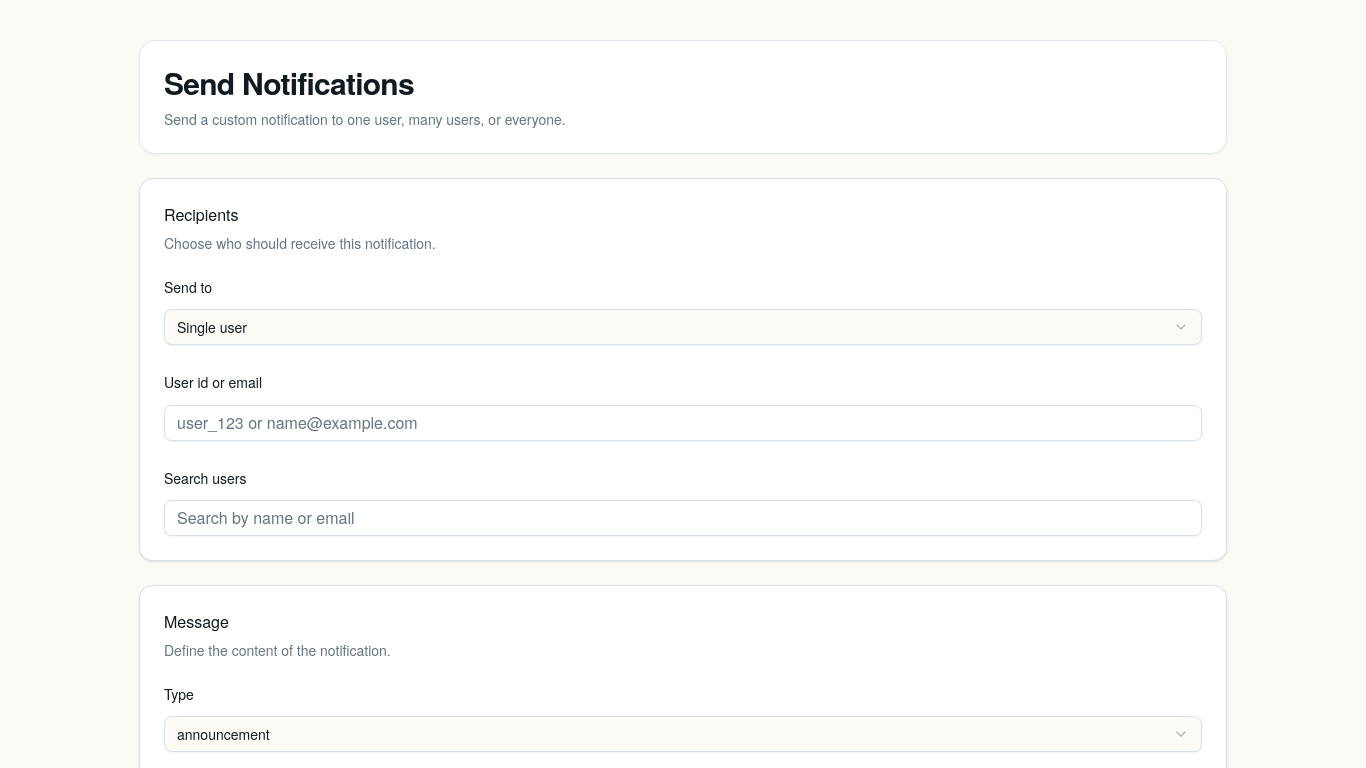
AdminSendNotificationsPage › adds a user from search results
The width and height of the screenshot is (1366, 768).
Step 1. Type "alex" into the field with placeholder "Search by name or email" → {"x": 683, "y": 518}, box [164,500,1202,536]
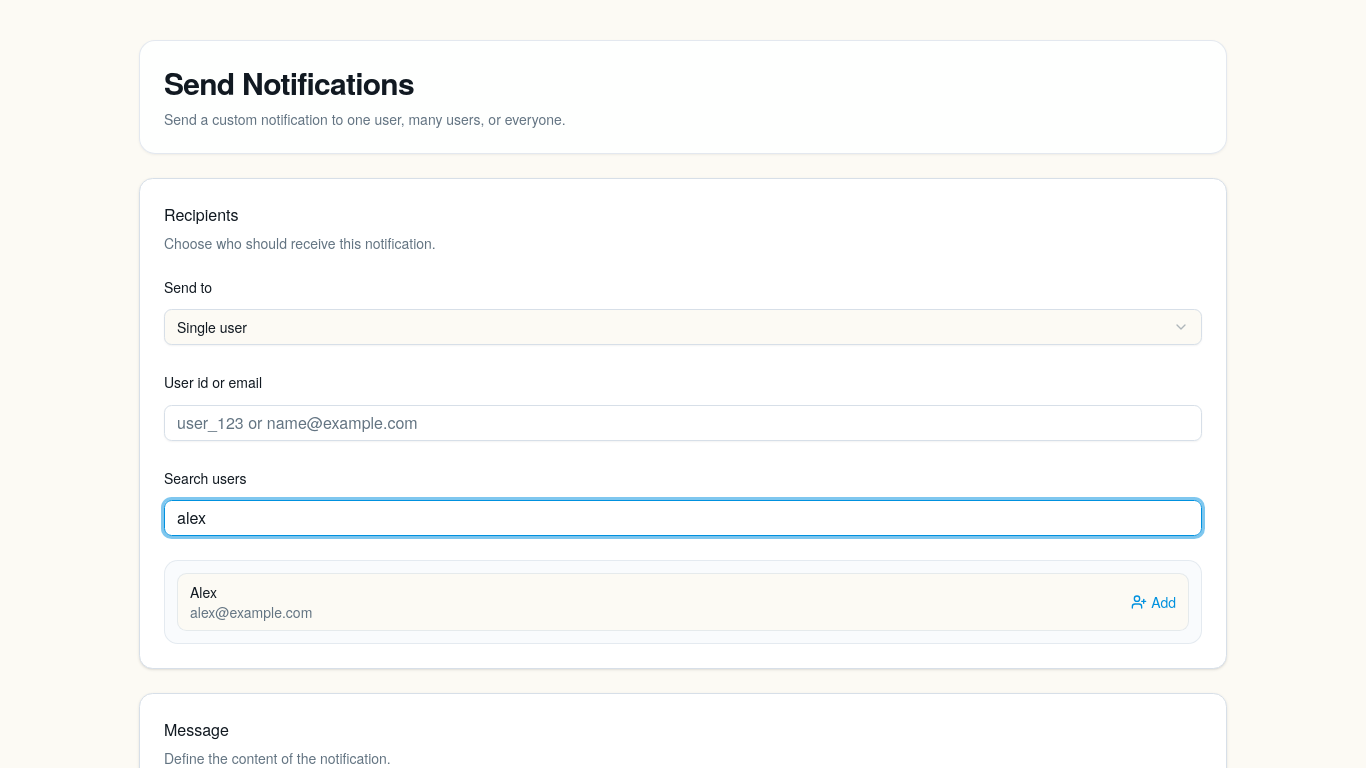
Step 2. Click the text "Add" → {"x": 1154, "y": 602}, box [1131,592,1176,612]
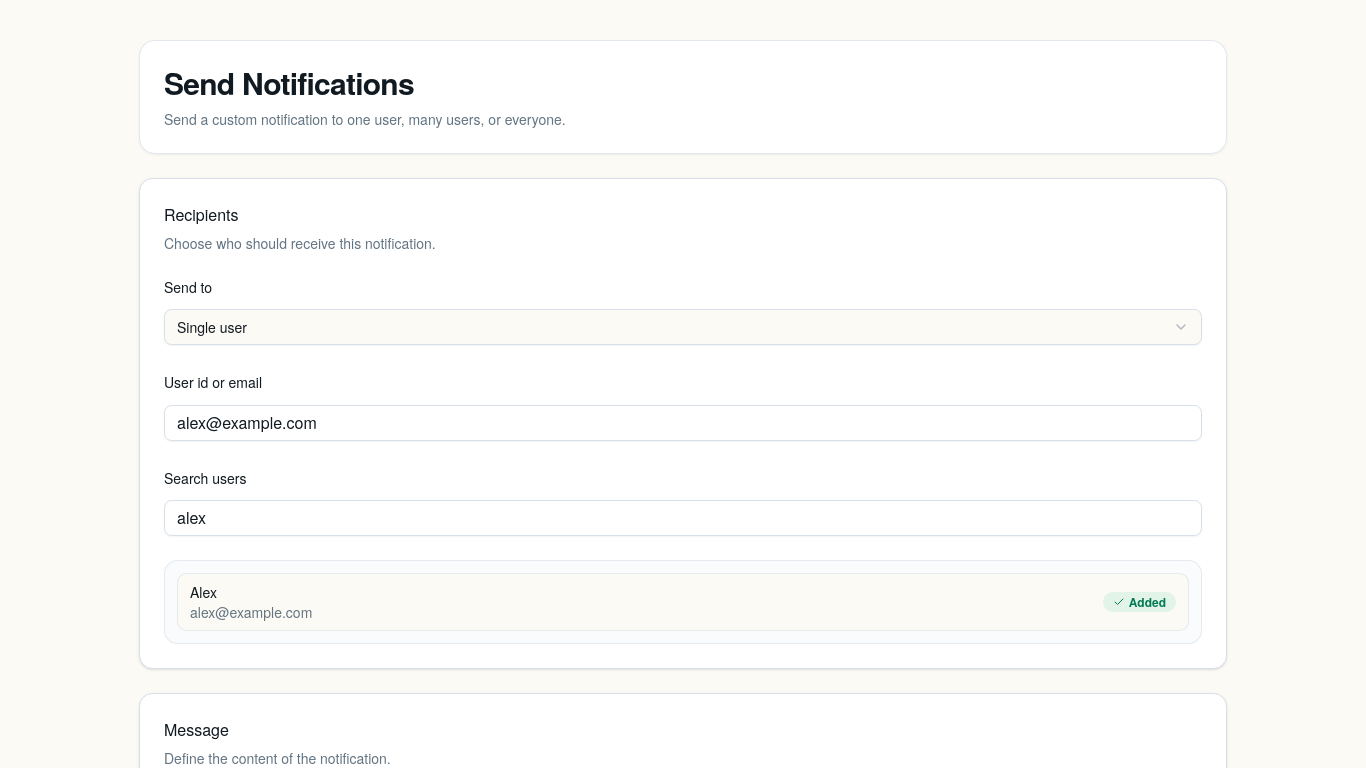
Now the field labelled "User id or email" holds "alex@example.com", box [164,404,1202,440]
